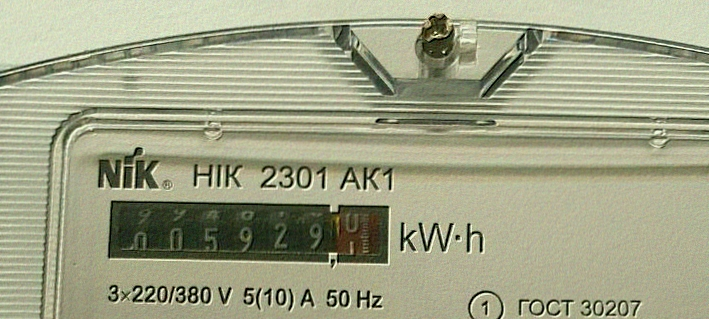0: (167, 225, 186, 253), (130, 227, 151, 250), (343, 211, 362, 234)
2: (271, 219, 290, 252)
5: (202, 225, 220, 253)
9: (235, 224, 256, 254), (307, 220, 326, 252), (135, 207, 153, 225)
screen: (102, 194, 397, 274)
